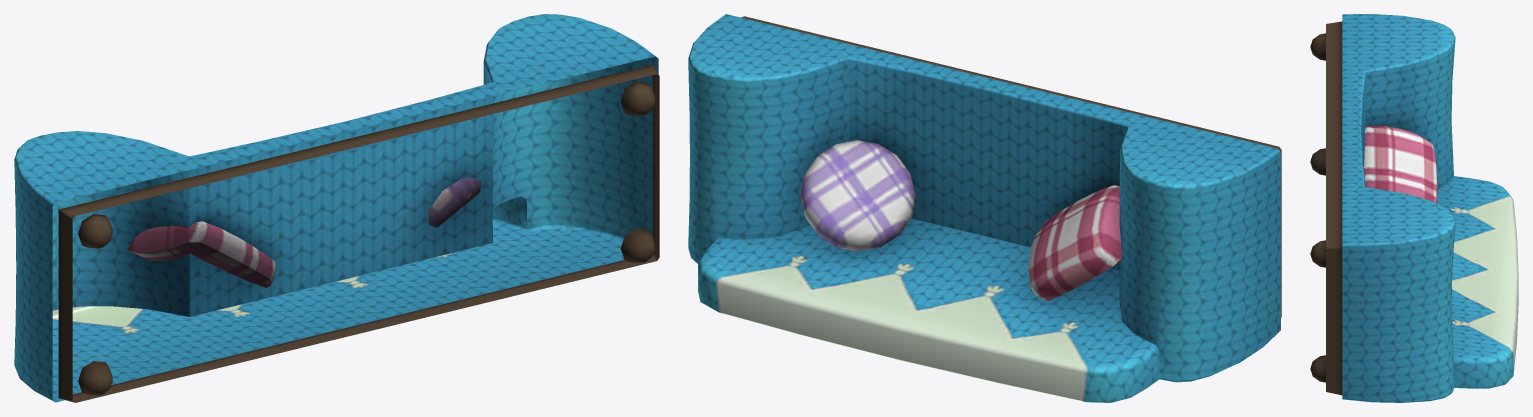
File: Couch.fbx
3 views of the same model, side by side, from view 1: azimuth 30°, elevation 25°; view 2: azimuth 150°, elevation 25°; view 3: azimuth 270°, elevation 25° (orthographic). The views are drawn at different scales.
Visible parts, largest first — view 1: Couch; view 2: Couch; view 3: Couch.
Part boxes in pixels (bbox=[...]): Couch: bbox=[14, 14, 659, 402]; Couch: bbox=[688, 14, 1281, 402]; Couch: bbox=[1310, 14, 1518, 402].
Size of the model in its own units: 328 by 116 by 125.
